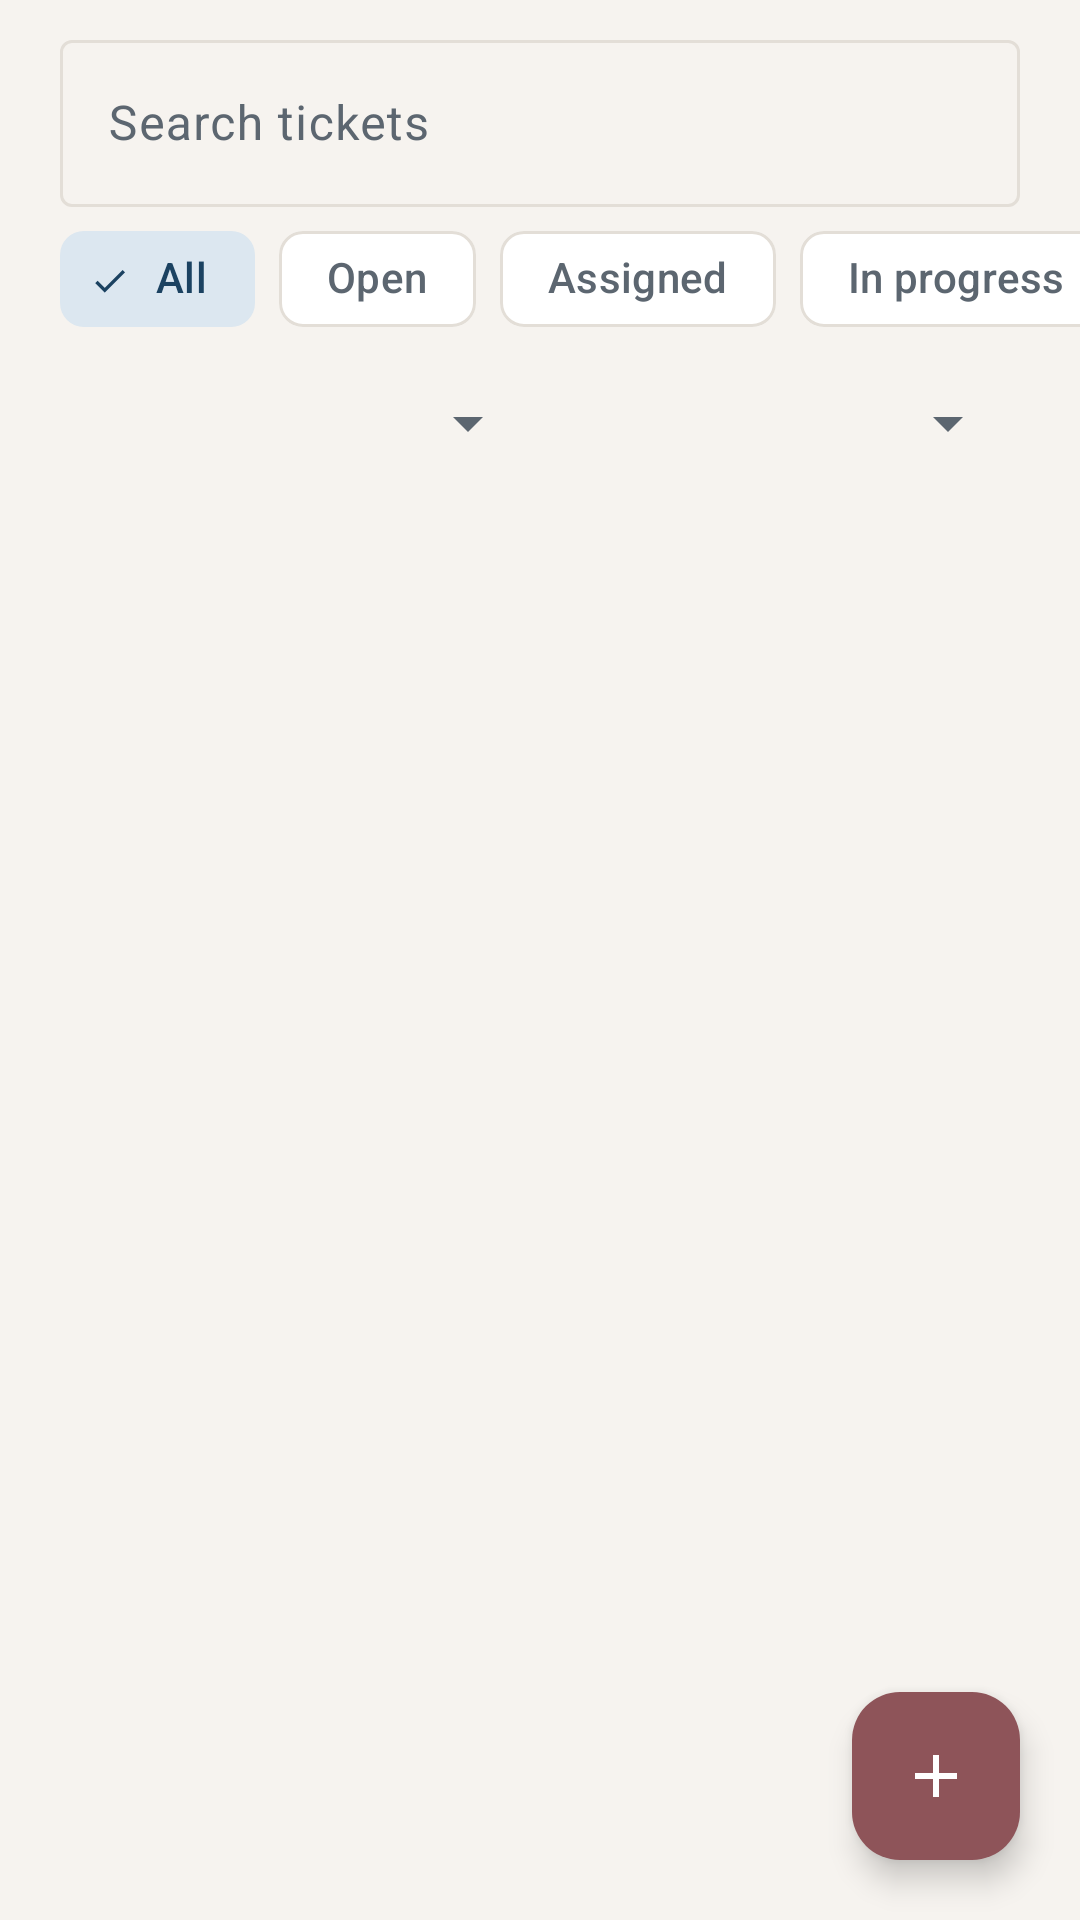

Where icons sit on this 1080w x 1920h app screen, as (x1, y1, x2, y2):
New ticket: (852, 1692, 1020, 1860)
